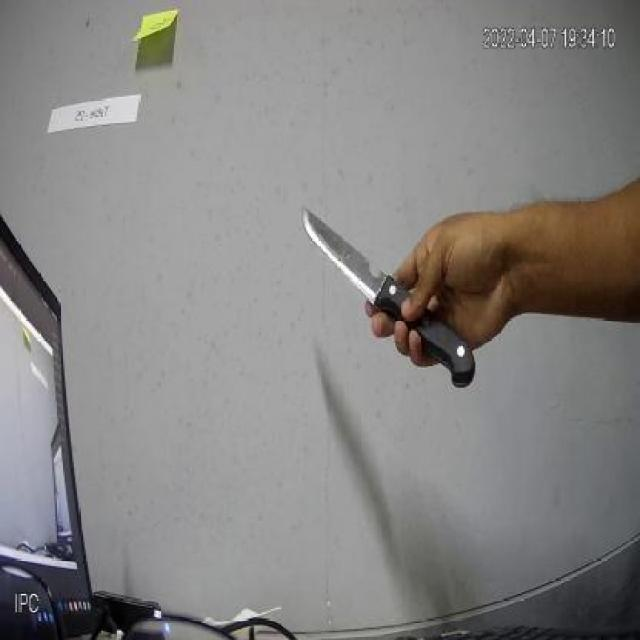-: (300, 213, 478, 390)
